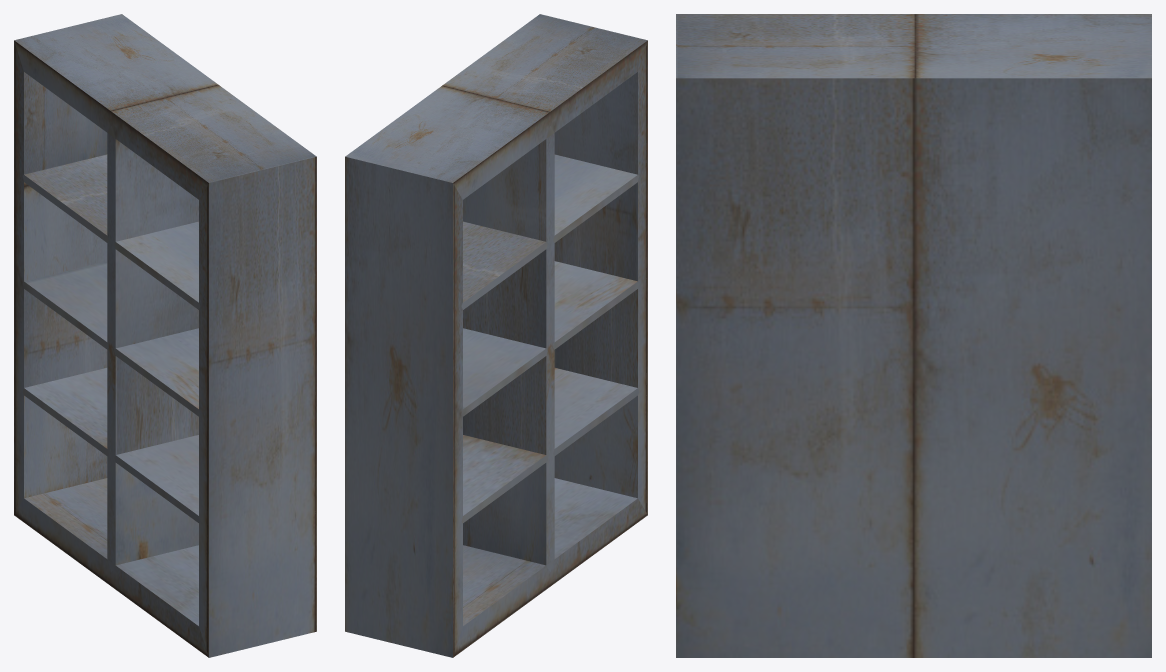
The model's file is CabinetC.fbx.
3 views of the same model, side by side, from view 1: azimuth 30°, elevation 25°; view 2: azimuth 150°, elevation 25°; view 3: azimuth 270°, elevation 25° (orthographic). The views are drawn at different scales.
Visible parts, largest first — view 1: medicine cabinet; view 2: medicine cabinet; view 3: medicine cabinet.
Part boxes in pixels (left/top/right/bottom): medicine cabinet: left=14, top=14, right=316, bottom=657; medicine cabinet: left=345, top=14, right=647, bottom=657; medicine cabinet: left=676, top=14, right=1151, bottom=657.
Size of the model in its own units: 187 by 786 by 585.
Materials: 1 (1 with a texture image).
